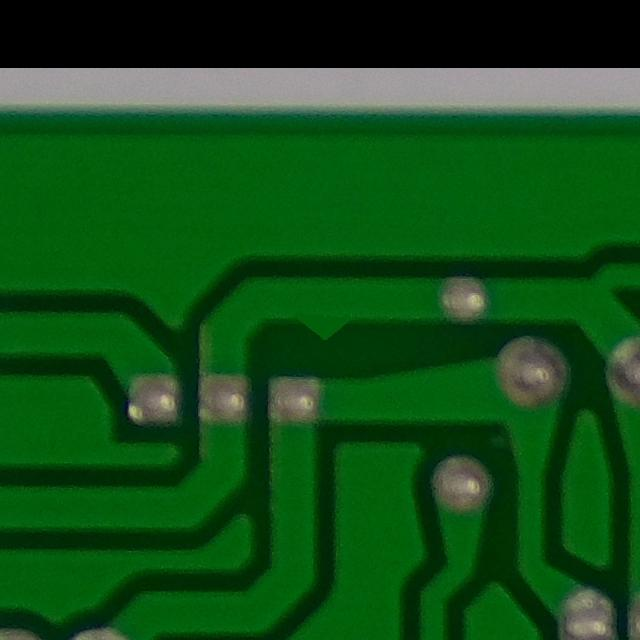spur: (269, 290, 371, 350)
